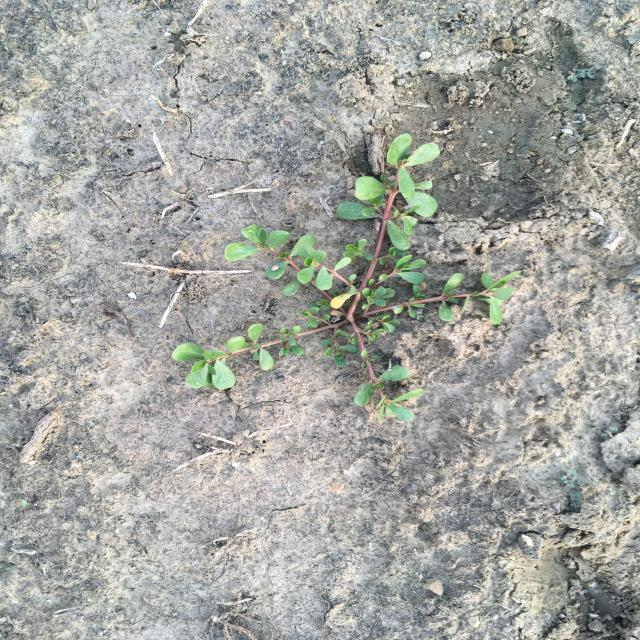Purslane: (169, 133, 525, 424)
